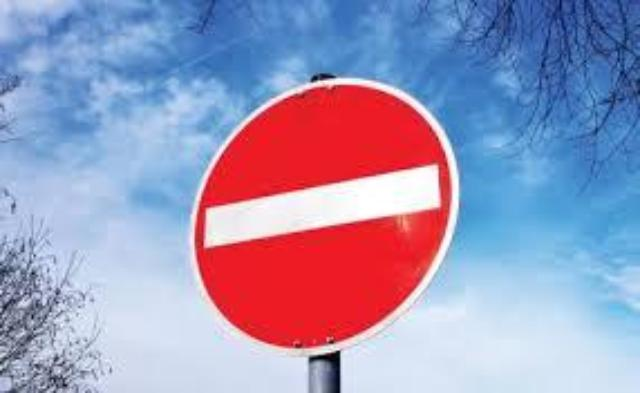B2: (185, 72, 460, 358)
